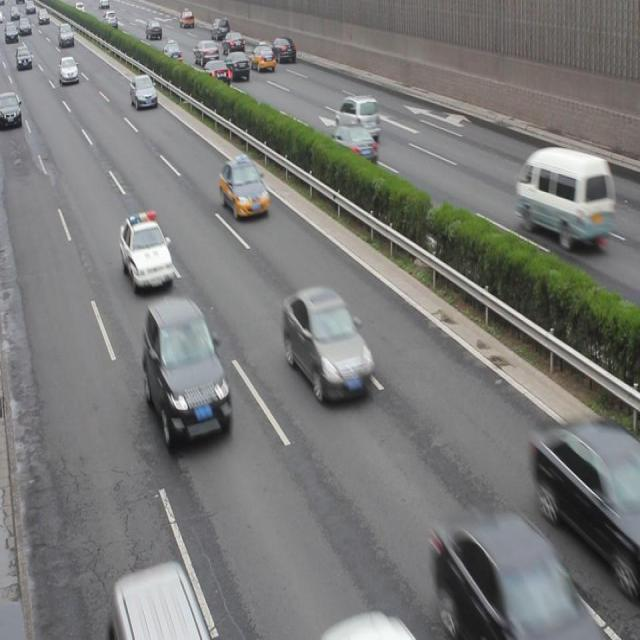car: (430, 508, 584, 640), (534, 416, 640, 570), (144, 296, 234, 448), (284, 285, 372, 404), (119, 212, 172, 290), (220, 153, 270, 220), (329, 121, 378, 169), (335, 93, 378, 139), (130, 74, 156, 109)
truck: (515, 144, 610, 244), (112, 565, 211, 640)
